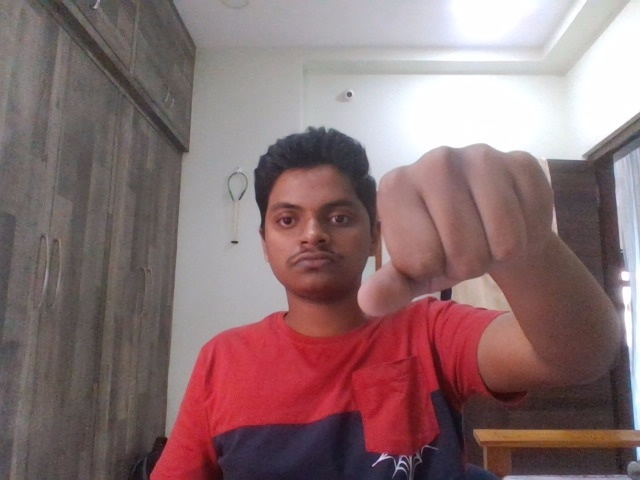Yes: (324, 117, 592, 337)
